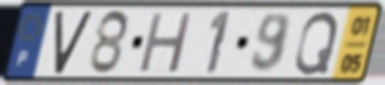1: (204, 9, 234, 78)
8: (86, 8, 132, 77)
9: (248, 11, 291, 76)
H: (136, 10, 196, 75)
Q: (292, 10, 341, 78)
V: (52, 8, 96, 76)
